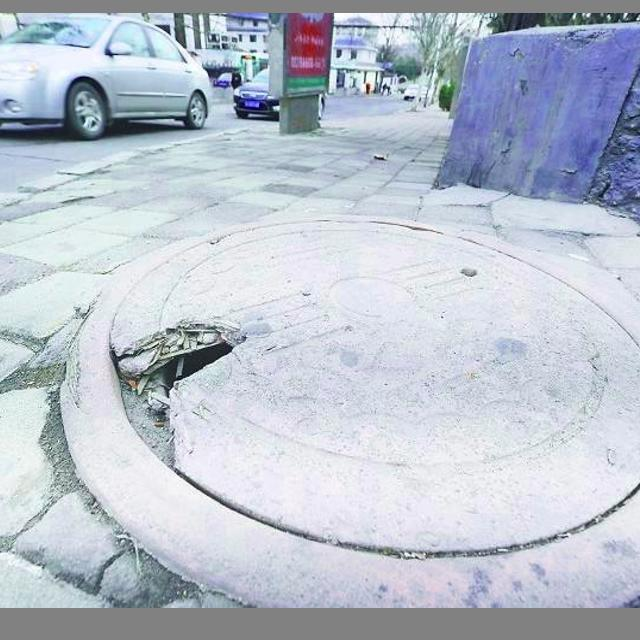broke: (111, 217, 640, 558)
